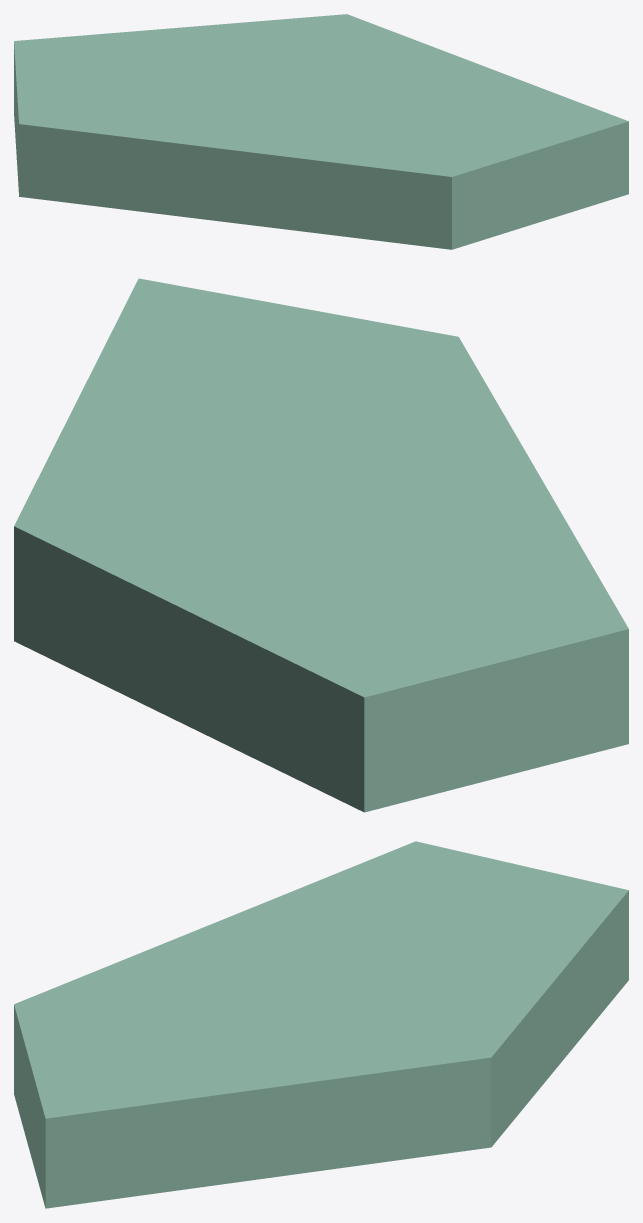
The model's file is naturePack_012.fbx.
The picture shows the model from 3 angles, top to bottom: view 1: azimuth 30°, elevation 25°; view 2: azimuth 150°, elevation 25°; view 3: azimuth 270°, elevation 25°; orthographic projection. The views are drawn at different scales.
Parts seen in each view (by area): view 1: naturePack_012; view 2: naturePack_012; view 3: naturePack_012.
Part boxes in pixels (x1,y1,x2,y2): naturePack_012: (14,14,628,249); naturePack_012: (14,278,628,812); naturePack_012: (14,841,628,1208).
Bounding box in the file's own units: 119 × 18 × 112.
